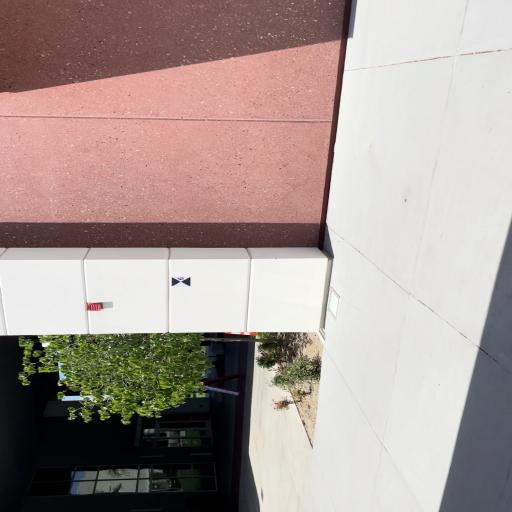target6: (171, 276, 192, 287)
